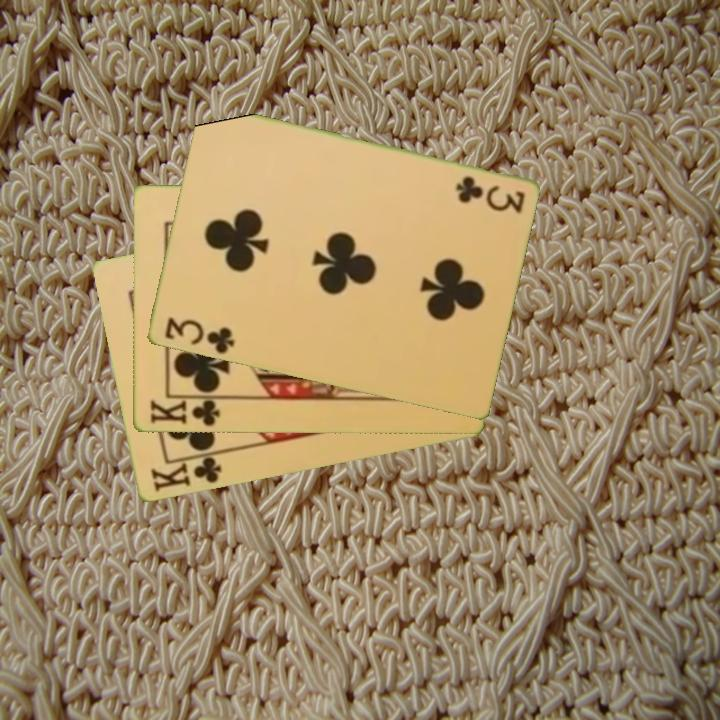3c: (160, 314, 237, 357), (451, 173, 528, 215)
Kc: (146, 449, 224, 495), (146, 394, 226, 430)
